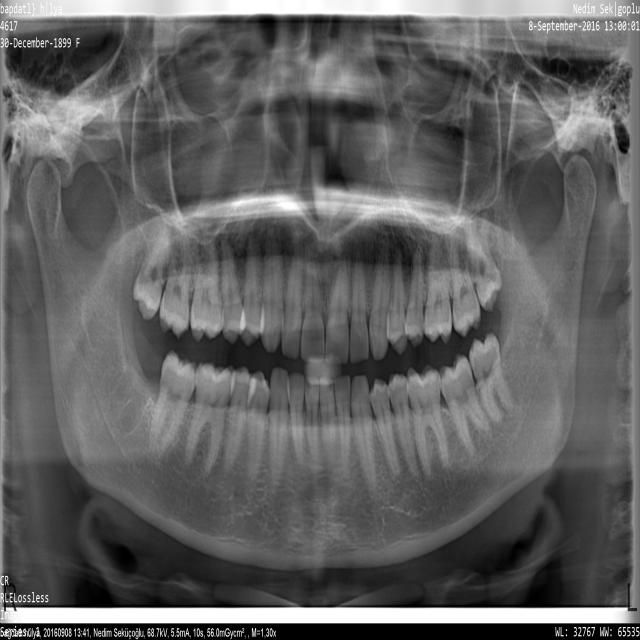Canine: (260, 221, 284, 353), (351, 375, 376, 494), (369, 242, 391, 360), (269, 367, 289, 484)
Incisores: (282, 231, 303, 360), (301, 248, 324, 363), (326, 253, 349, 365), (349, 246, 370, 364), (287, 373, 305, 465), (319, 376, 337, 465), (335, 376, 351, 475), (305, 375, 319, 463)
Premolars: (387, 374, 418, 477), (224, 366, 252, 473), (370, 377, 400, 475), (239, 230, 264, 346), (247, 370, 269, 480), (386, 247, 408, 354), (221, 241, 243, 344), (404, 248, 424, 347)
molars: (184, 361, 232, 477), (438, 354, 492, 454), (148, 353, 196, 458), (407, 365, 449, 476), (469, 332, 514, 421), (190, 237, 224, 343), (449, 226, 481, 337), (468, 212, 503, 312), (160, 233, 192, 338), (132, 225, 166, 320), (423, 237, 453, 343)
